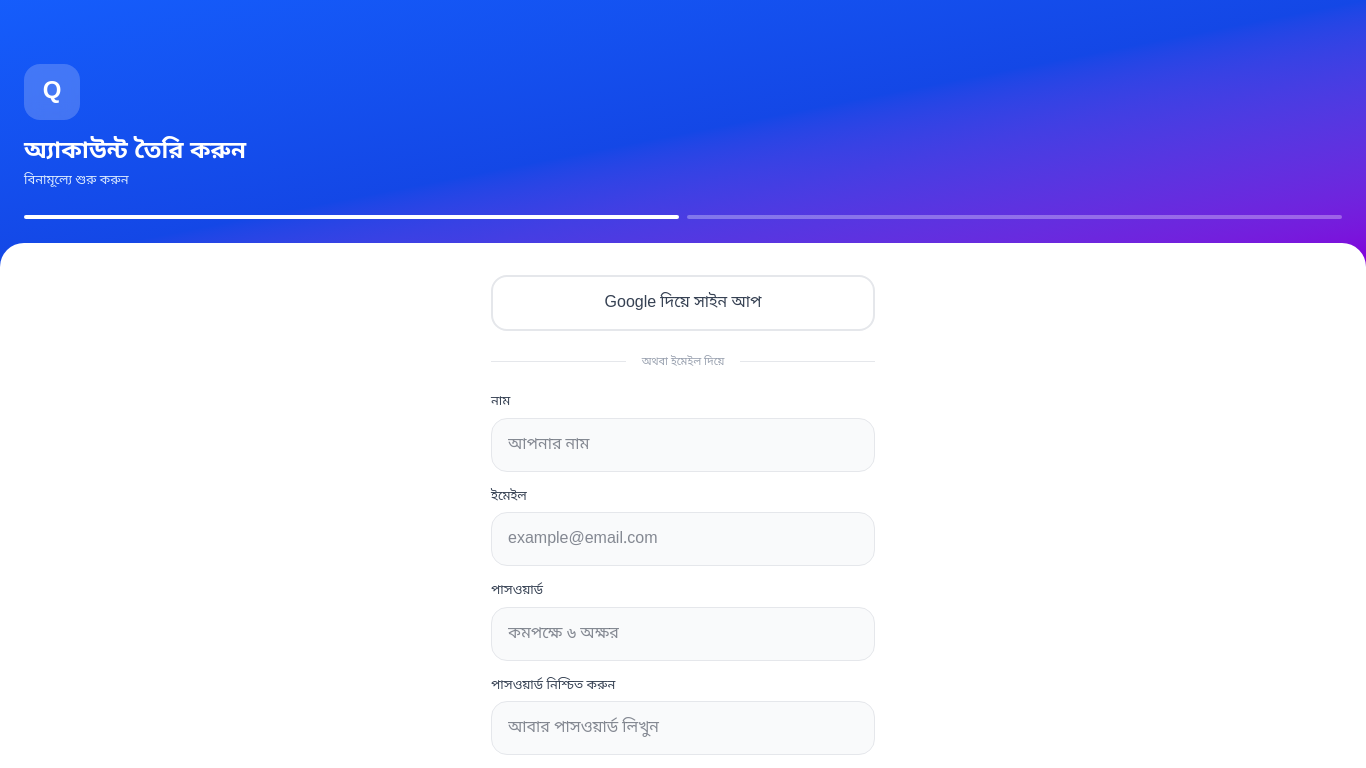
Register › password confirmation › should proceed to step 2 when passwords match
Type "টেস্ট" into the field with placeholder "আপনার নাম" at [683, 445], box [491,418,875,472]
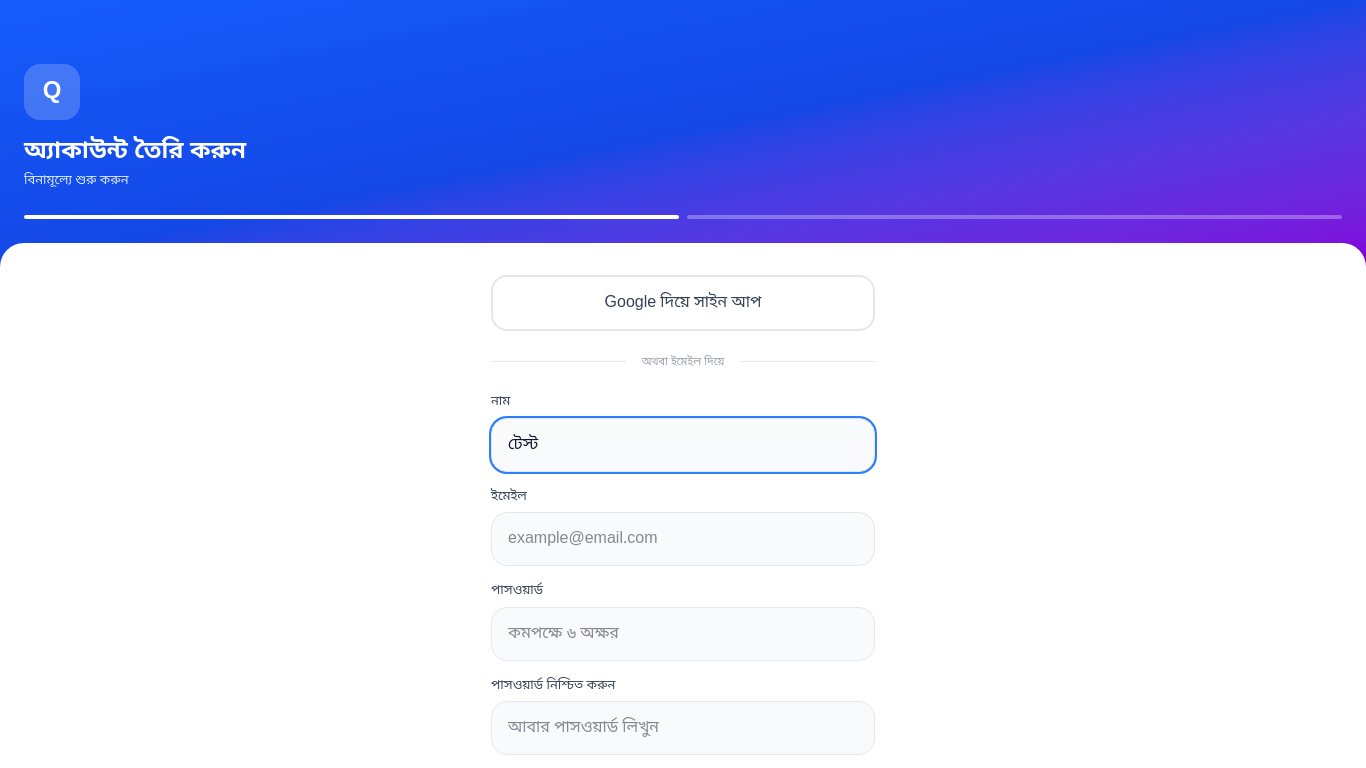
Type "test@test.com" into the field with placeholder "example@email.com" at [683, 539], box [491,512,875,566]
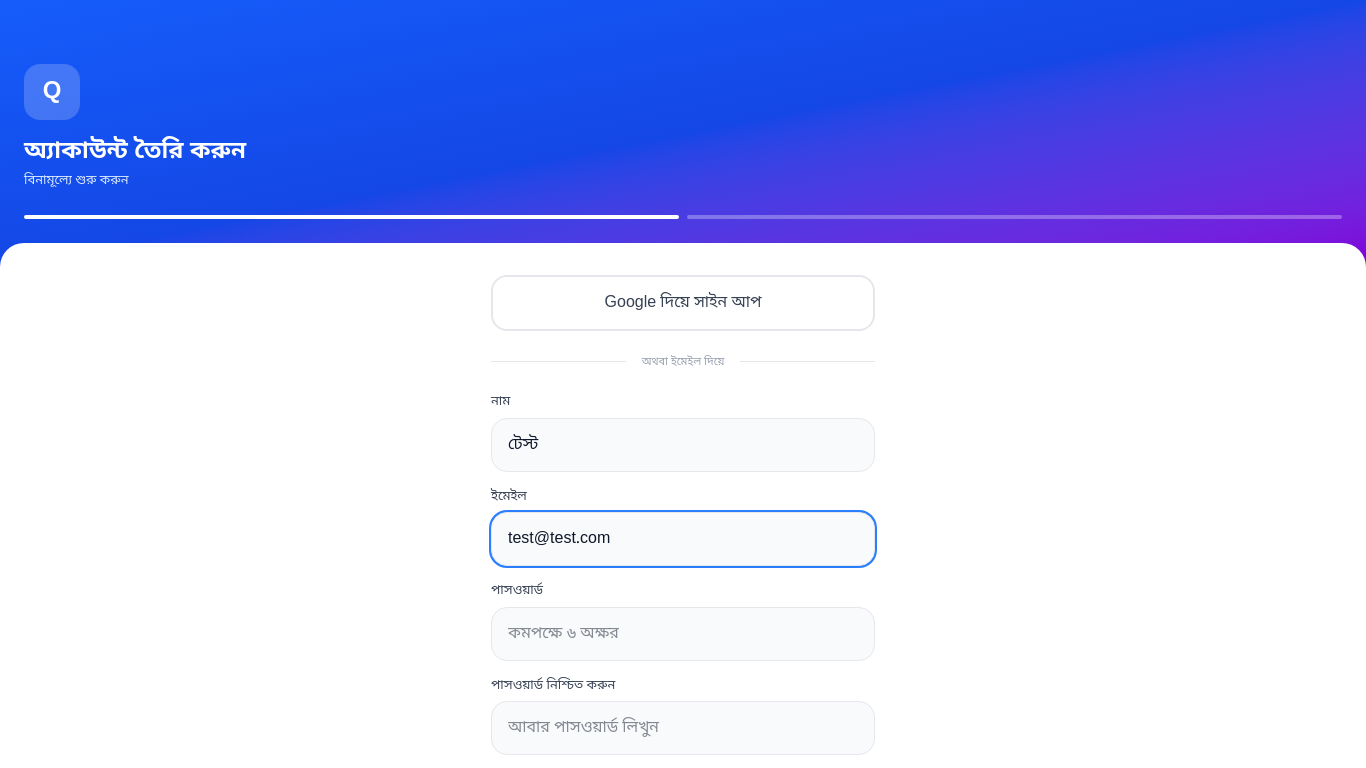
Type "password123" into the password field with placeholder "কমপক্ষে ৬ অক্ষর" at [683, 634], box [491,607,875,661]
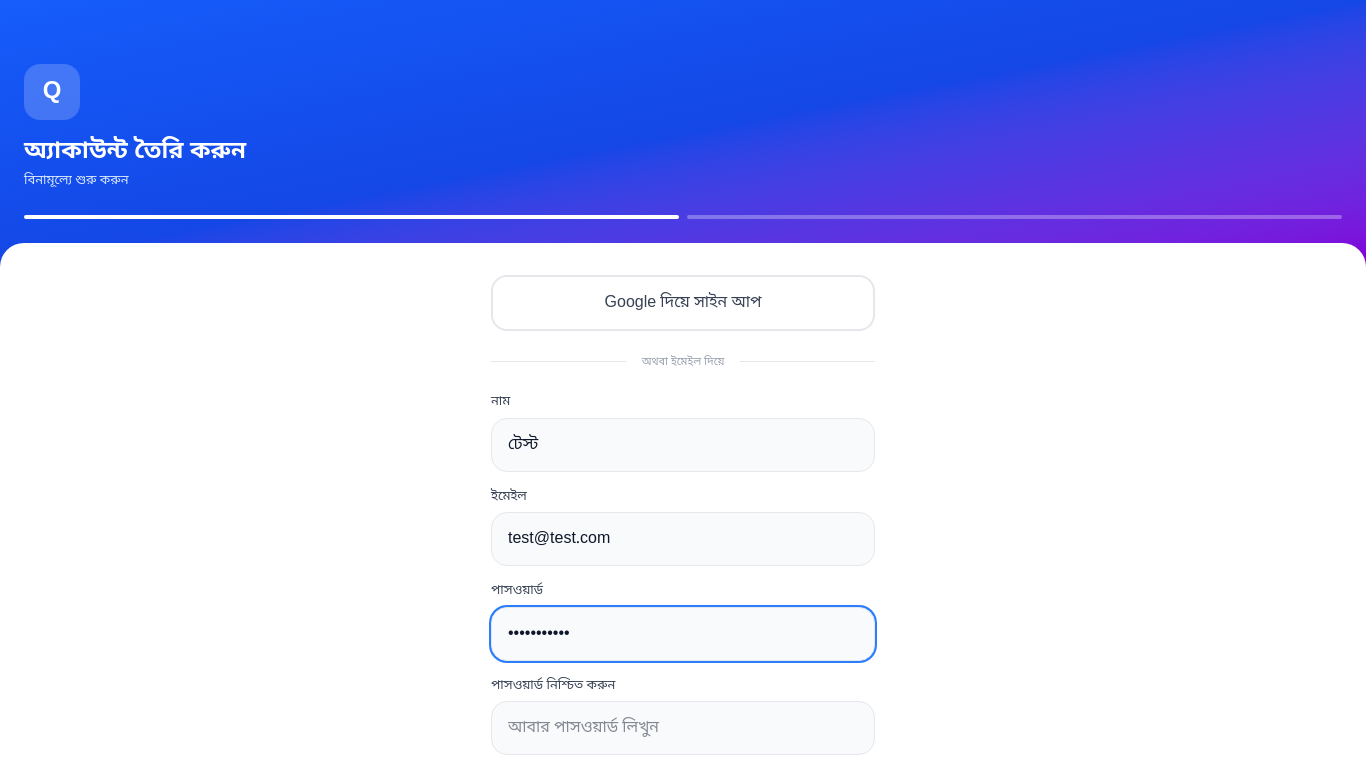
Type "password123" into the password field with placeholder "আবার পাসওয়ার্ড লিখুন" at [683, 728], box [491,702,875,756]
(page scrolled)
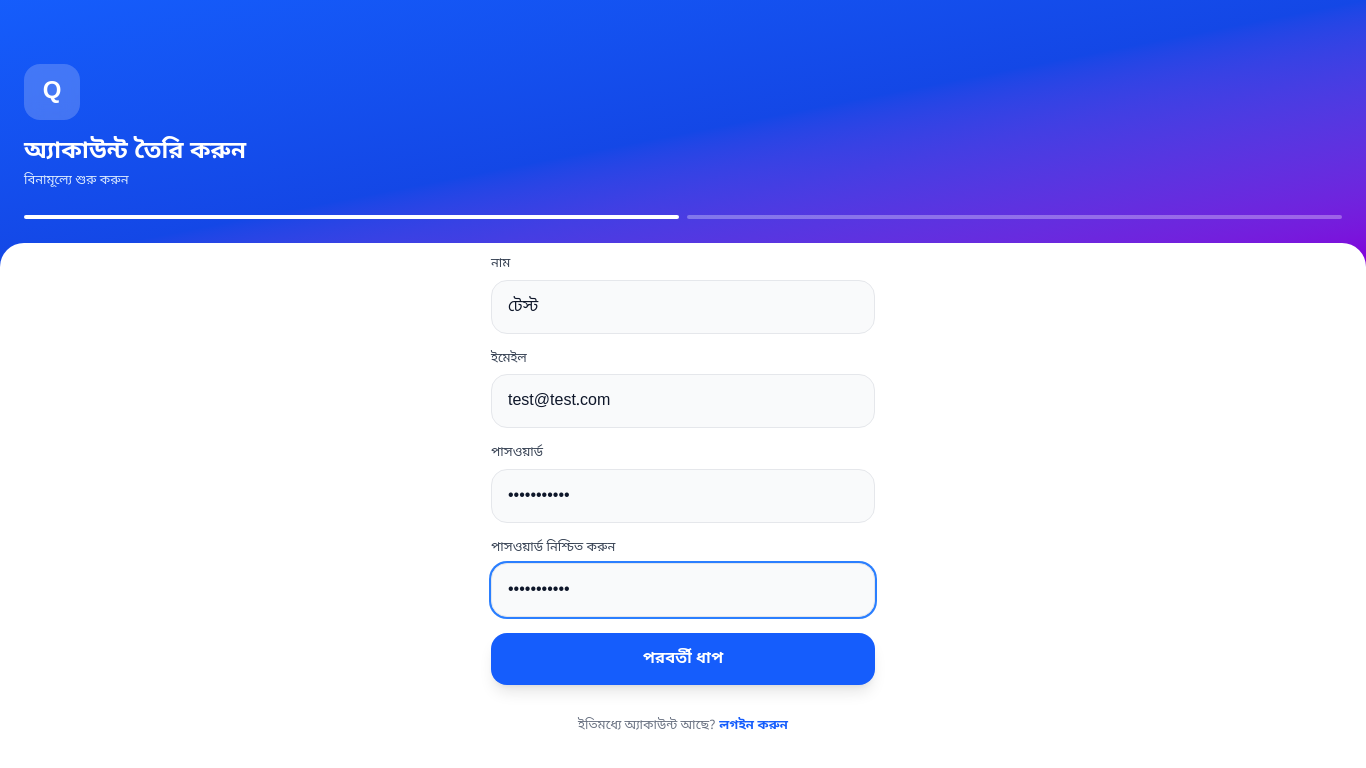
Click the button "পরবর্তী ধাপ" at [683, 660], box [491,634,875,686]
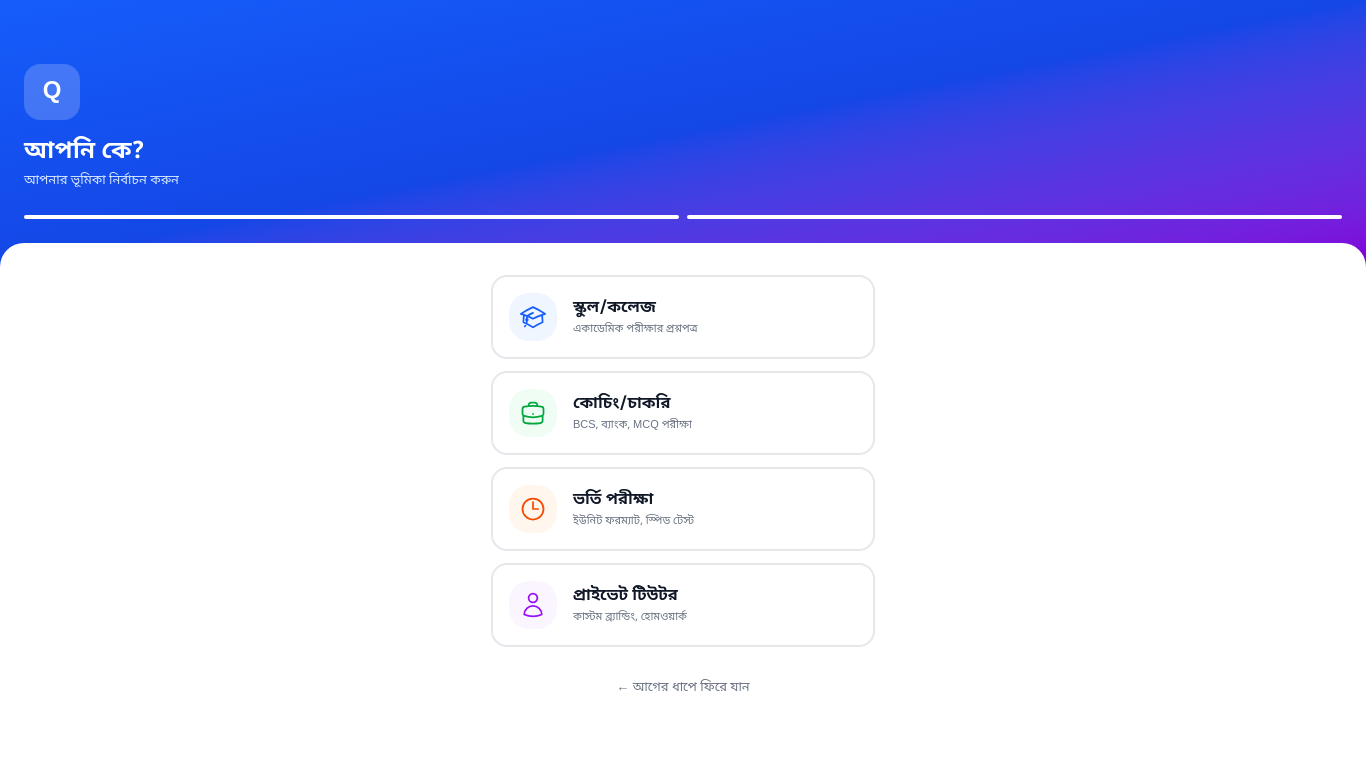
Now the heading "আপনি কে?" is shown, box [24,136,145,168]
